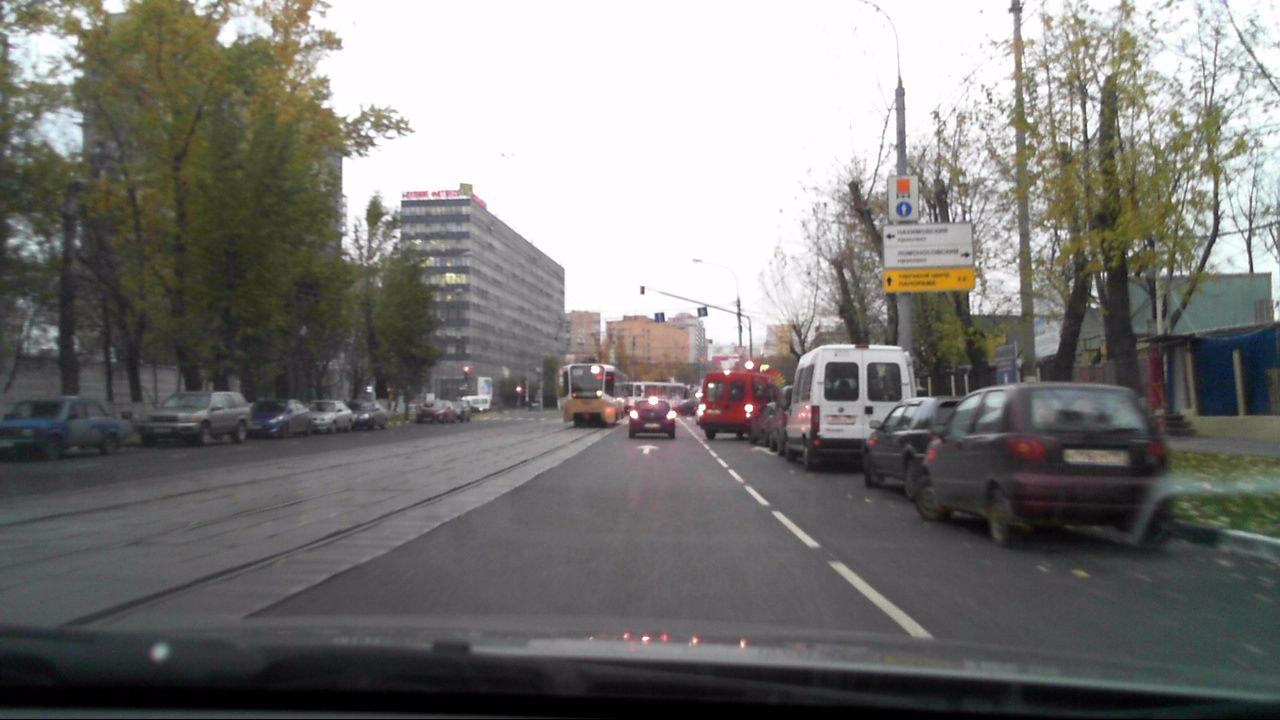4_8_1: (888, 175, 919, 220)
5_15_2: (695, 306, 708, 318), (655, 312, 665, 324)
